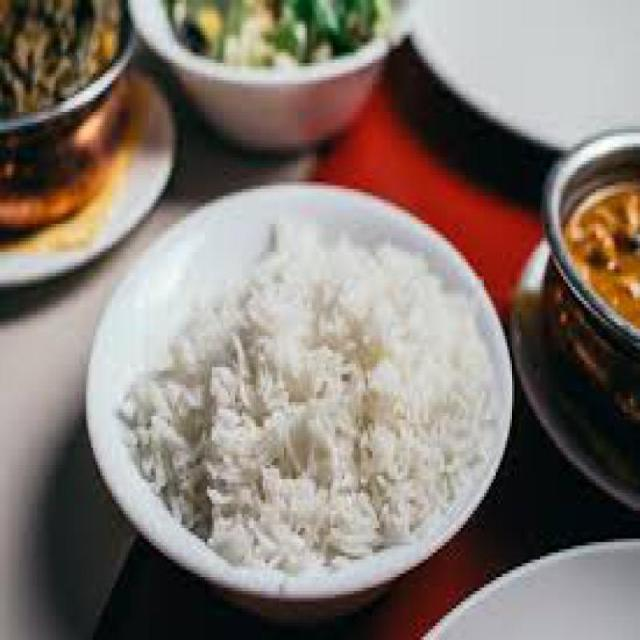nasi_putih: (118, 220, 498, 580)
